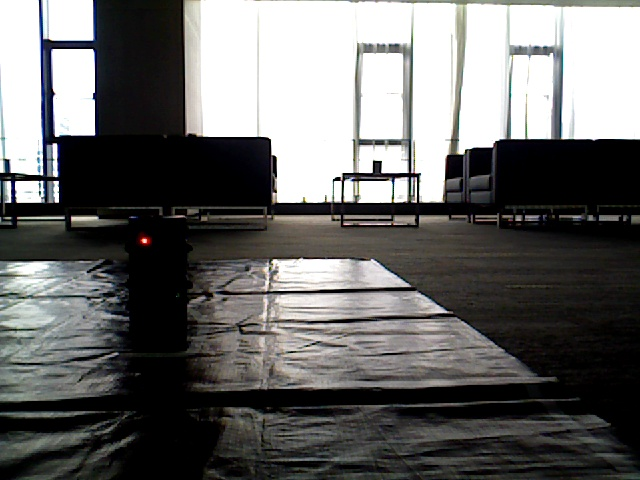red: (125, 219, 185, 320)
